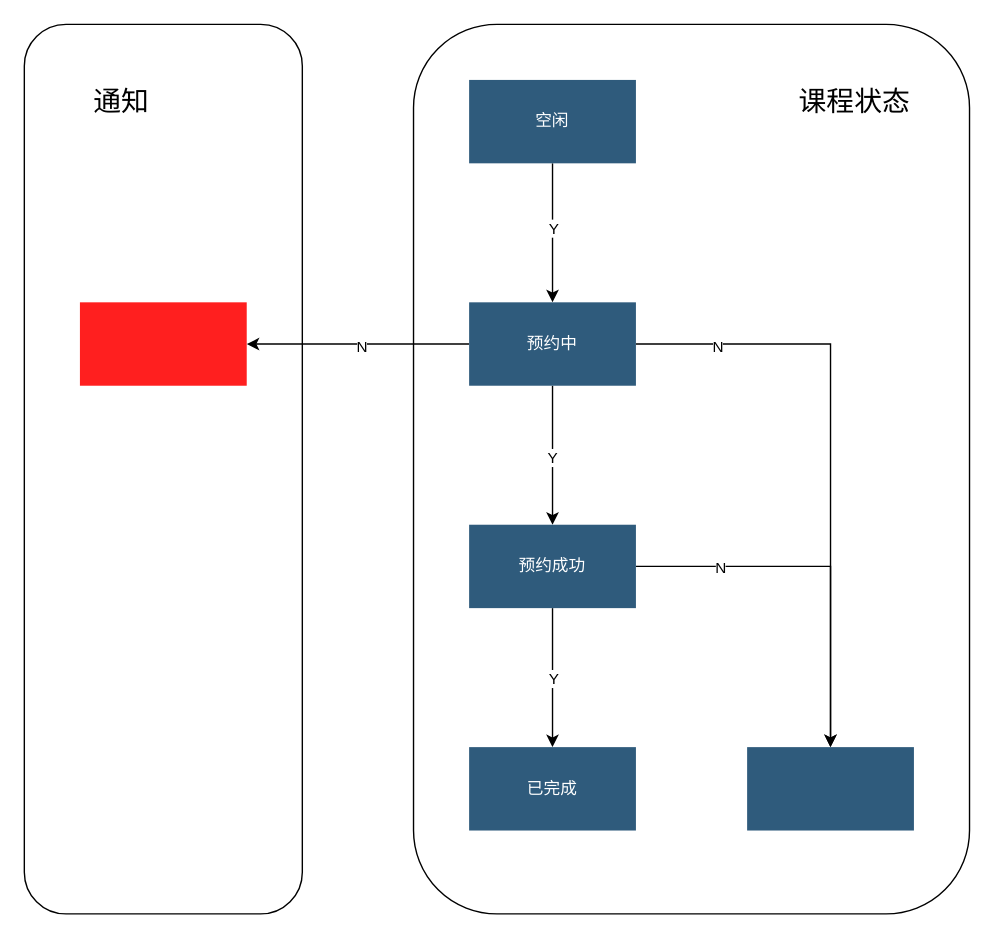
Some shapes in this 994 by 938 pixel diagram are drawn without their labels. Each missing label, with the centre of its shape:
"已取消" goes at (829,788).
"预约失败" goes at (162,343).
